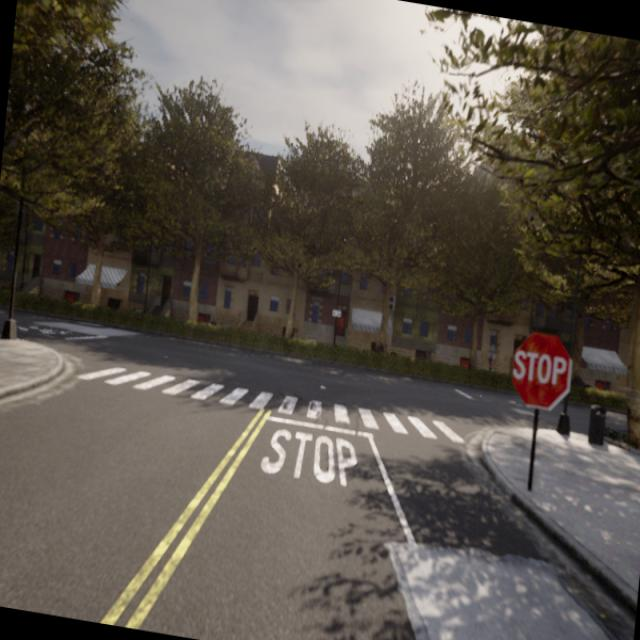stop sign: (508, 327, 574, 413), (512, 348, 568, 387)
